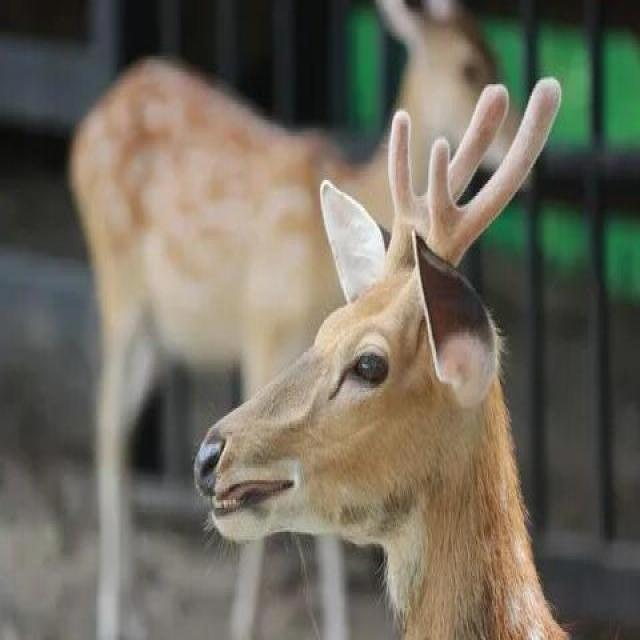deer: (188, 160, 640, 640)
